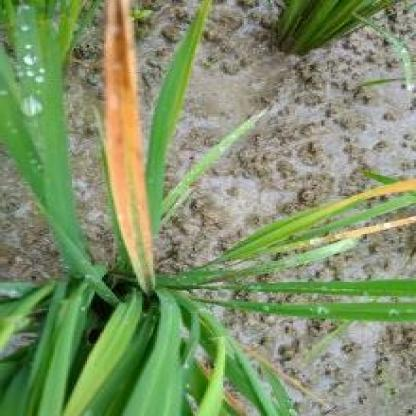Tungro: (102, 2, 152, 291)
